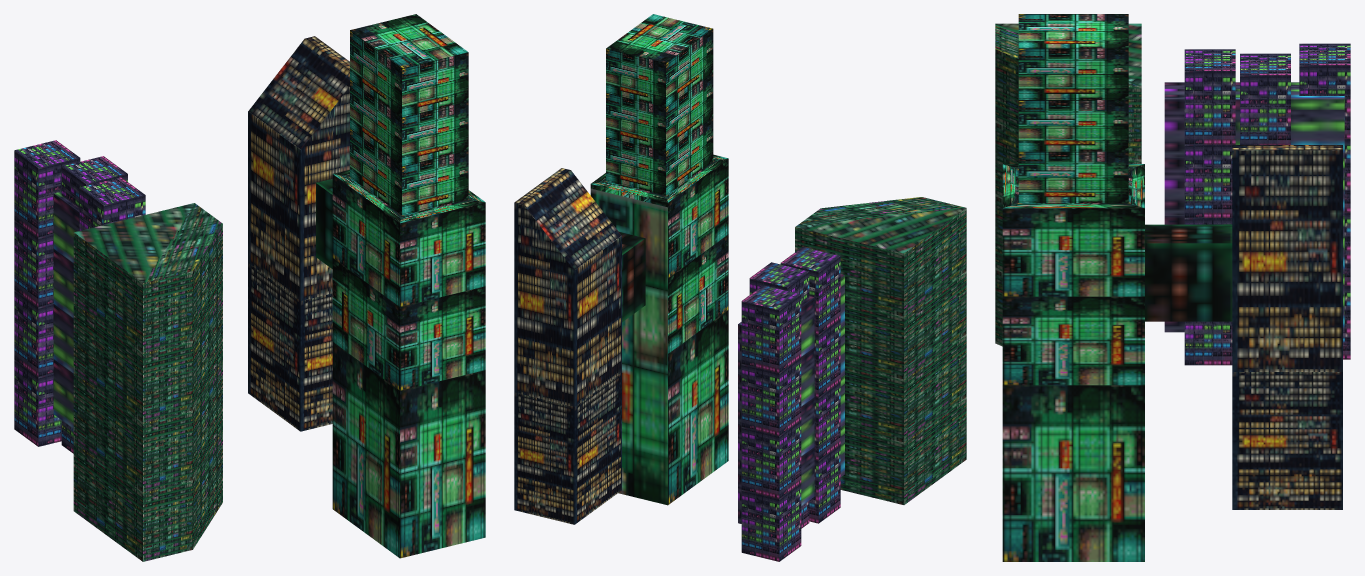
File: TokyoCity01.fbx
The picture shows the model from 3 angles, left to right: view 1: azimuth 30°, elevation 25°; view 2: azimuth 150°, elevation 25°; view 3: azimuth 270°, elevation 25°; orthographic projection. The views are drawn at different scales.
Parts seen in each view (by area): view 1: Cube.001; view 2: Cube.001; view 3: Cube.001.
Boxes of the visible parts, x1,y1,x2,y2 form: Cube.001: (14,14,485,561); Cube.001: (514,14,966,561); Cube.001: (995,14,1350,561).
Size of the model in its own units: 49871 by 66381 by 41981.
